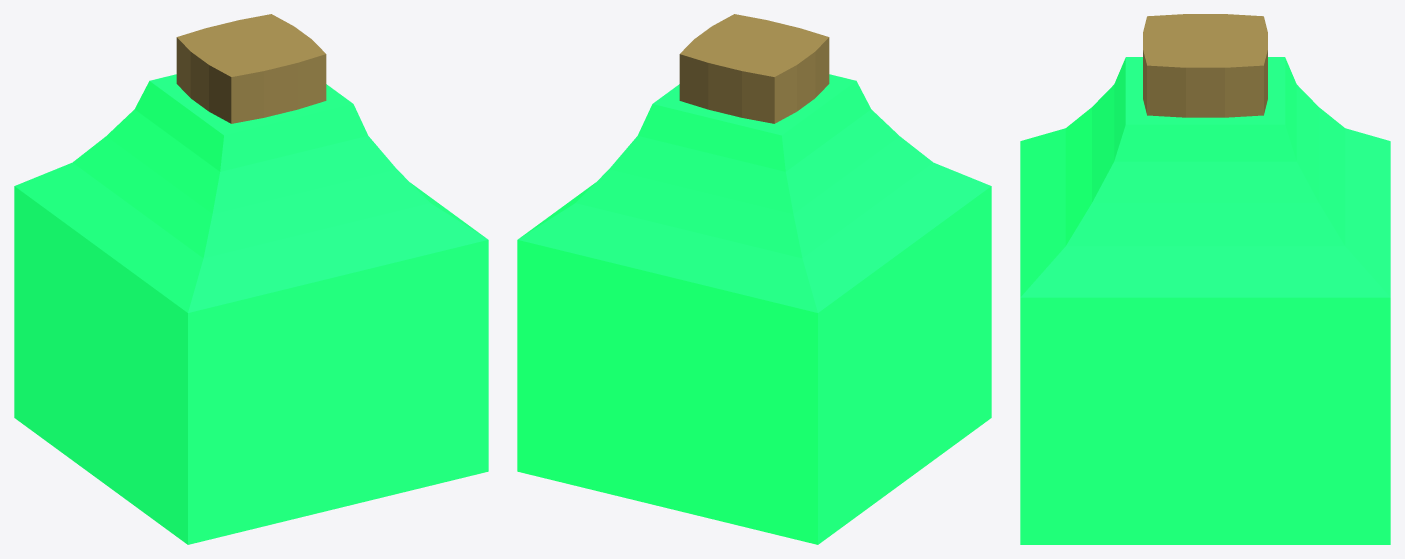
Rendered from potion_ep.glb.
3 views of the same model, side by side, from view 1: azimuth 30°, elevation 25°; view 2: azimuth 150°, elevation 25°; view 3: azimuth 270°, elevation 25° (orthographic). The views are drawn at different scales.
Visible parts, largest first — view 1: MediumPotion_Stamina; view 2: MediumPotion_Stamina; view 3: MediumPotion_Stamina.
Boxes of the visible parts, bbox=[...] form: MediumPotion_Stamina: bbox=[14, 14, 488, 544]; MediumPotion_Stamina: bbox=[517, 14, 991, 544]; MediumPotion_Stamina: bbox=[1020, 14, 1390, 544].
Size of the model in its own units: 0.2272 by 0.2884 by 0.2272.
